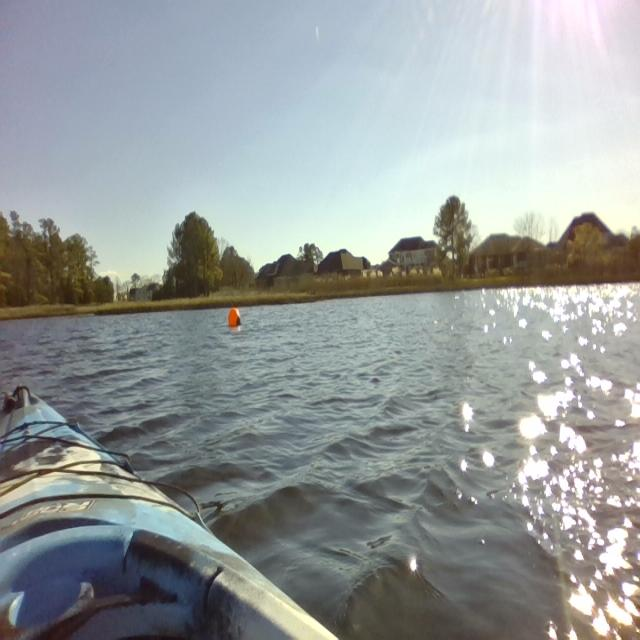Buoy: (221, 302, 248, 337)
